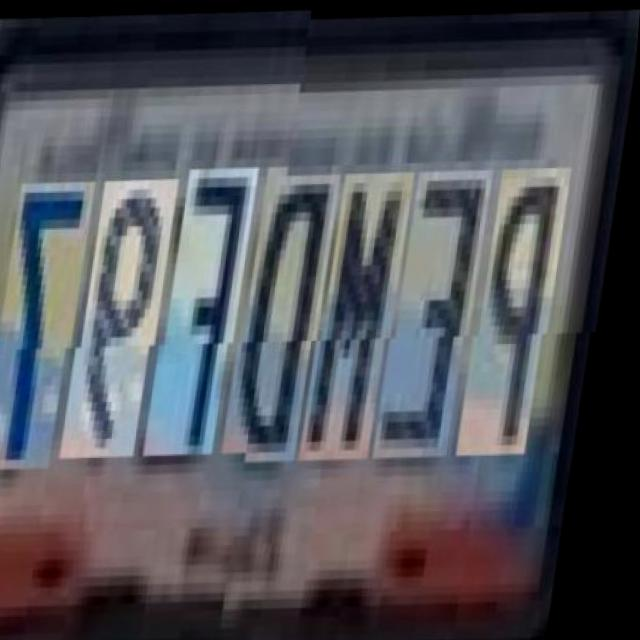7: (0, 184, 96, 475)
9: (73, 182, 179, 463)
d: (234, 170, 342, 461)
e: (386, 167, 494, 457)
f: (156, 172, 258, 462)
m: (313, 168, 414, 459)
p: (470, 164, 572, 455)
